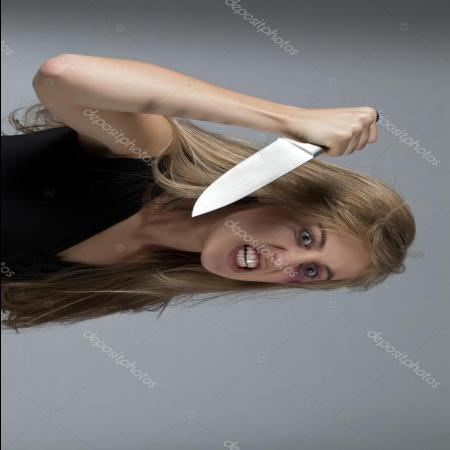long weapon: (182, 124, 376, 221)
